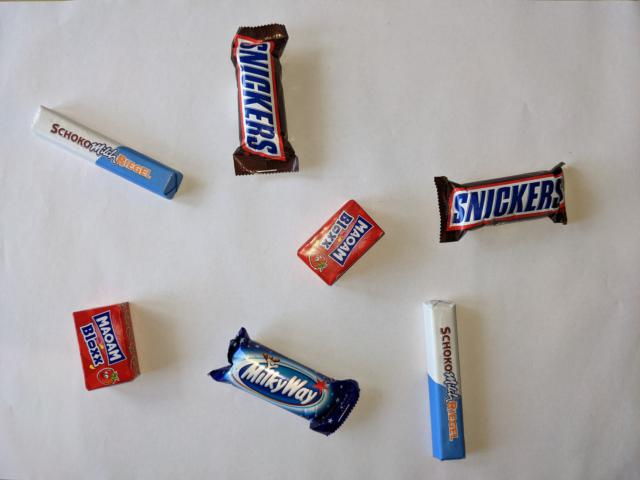MAOAM: (293, 198, 387, 289), (70, 300, 143, 393)
MilkyWay: (205, 325, 362, 437)
Schokoriegel: (27, 103, 185, 201), (420, 296, 469, 462)
Snickers: (431, 159, 571, 246), (228, 21, 301, 178)
